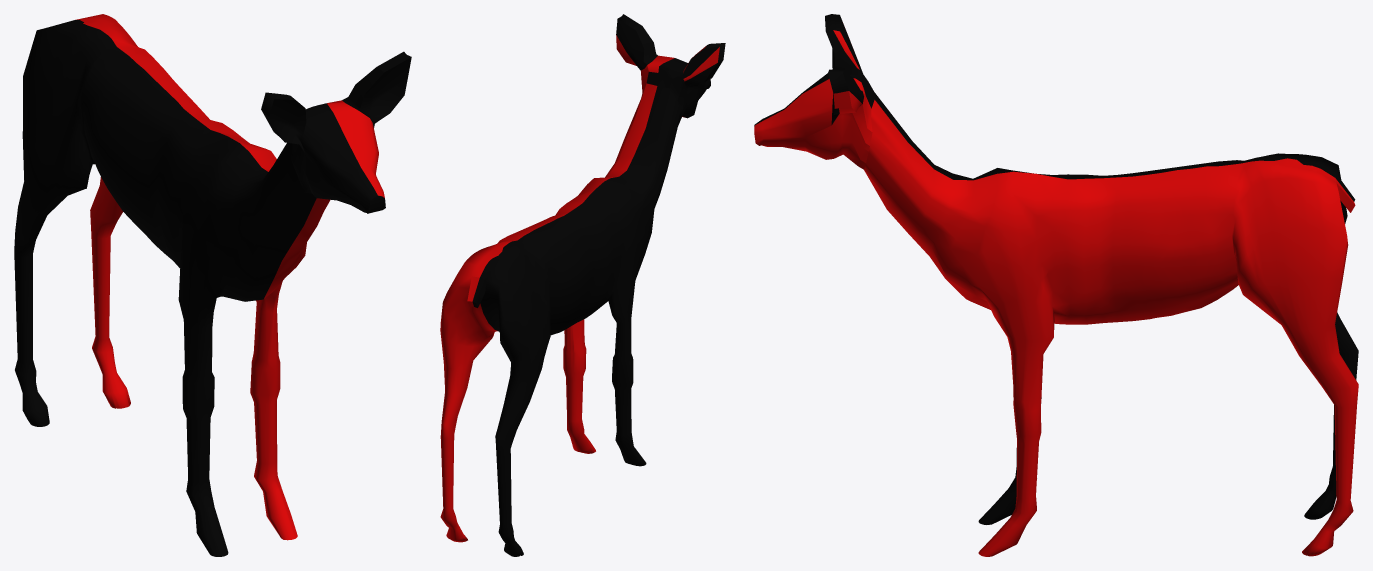
File: deerRoughPlaceHolder.fbx
The picture shows the model from 3 angles, left to right: view 1: azimuth 30°, elevation 25°; view 2: azimuth 150°, elevation 25°; view 3: azimuth 270°, elevation 25°; orthographic projection. The views are drawn at different scales.
Parts seen in each view (by area): view 1: deer; view 2: deer; view 3: deer.
Boxes of the visible parts, box(x1,y1,x2,y2) form: deer: box(14, 14, 411, 556); deer: box(440, 14, 725, 556); deer: box(754, 14, 1358, 556).
Bounding box in the file's own units: 0.4432 × 1.6 × 1.76.
